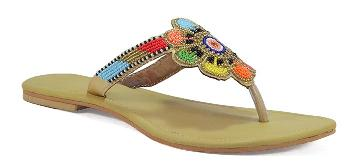Footwear: (17, 14, 339, 156)
